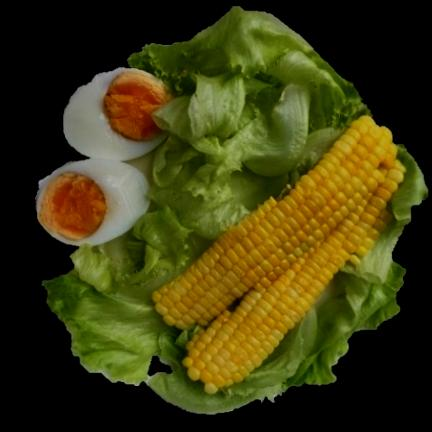corn: (153, 118, 402, 392)
egg: (35, 67, 175, 249)
salad: (47, 10, 430, 412)
